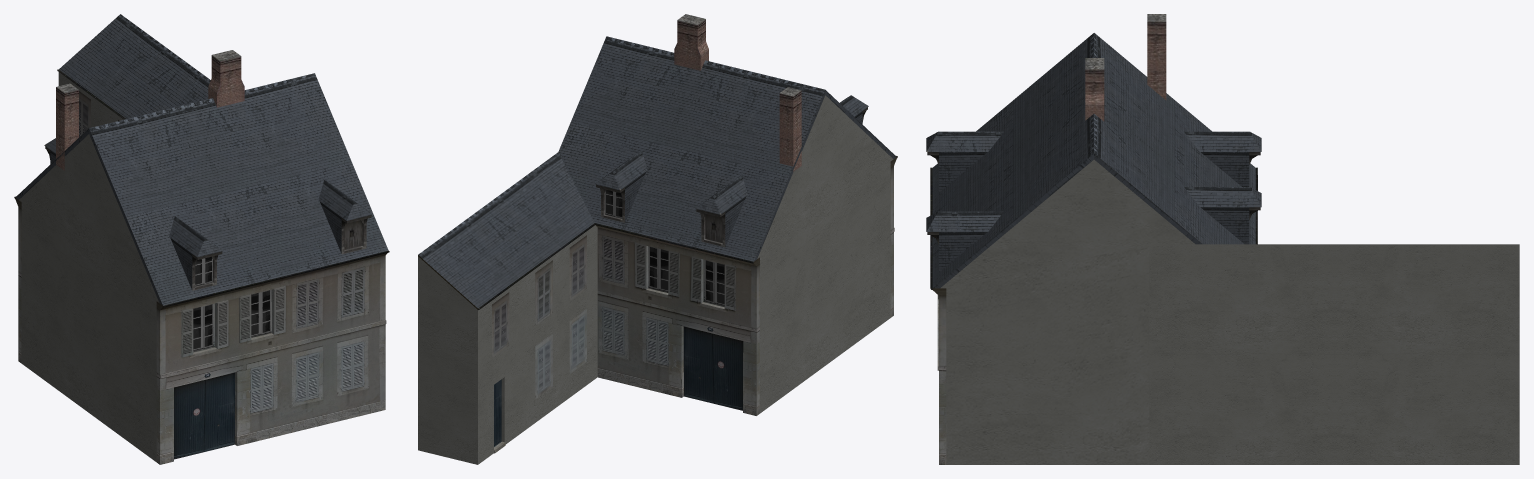
The model's file is bourges_house_1_france.glb.
The picture shows the model from 3 angles, left to right: view 1: azimuth 30°, elevation 25°; view 2: azimuth 150°, elevation 25°; view 3: azimuth 270°, elevation 25°; orthographic projection. The views are drawn at different scales.
Parts seen in each view (by area): view 1: 4_4_0; view 2: 4_4_0; view 3: 4_4_0.
Part boxes in pixels (<box>): 4_4_0: <box>14,14,389,464</box>; 4_4_0: <box>418,14,897,464</box>; 4_4_0: <box>926,14,1519,464</box>.
Bounding box in the file's own units: 11.31 × 15.48 × 23.49.
Materials: 1 (1 with a texture image).
